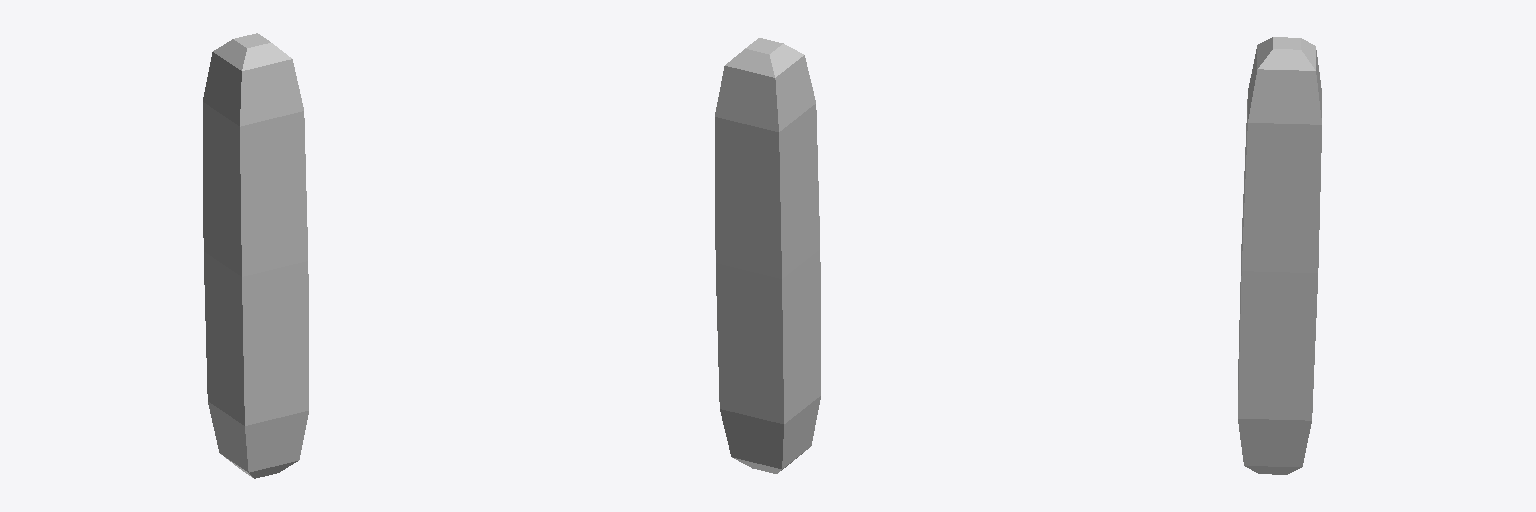
Rendered from RightUpLeg.obj.
3 views of the same model, side by side, from view 1: azimuth 30°, elevation 25°; view 2: azimuth 150°, elevation 25°; view 3: azimuth 270°, elevation 25° (orthographic).
Parts seen in each view (by area): view 1: ../rami/model/RightUpLeg; view 2: ../rami/model/RightUpLeg; view 3: ../rami/model/RightUpLeg.
Part boxes in pixels (bbox=[...]): ../rami/model/RightUpLeg: bbox=[203, 33, 308, 478]; ../rami/model/RightUpLeg: bbox=[715, 38, 820, 473]; ../rami/model/RightUpLeg: bbox=[1238, 37, 1321, 474].
Bounding box in the file's own units: 0.0728 × 0.4455 × 0.0801.